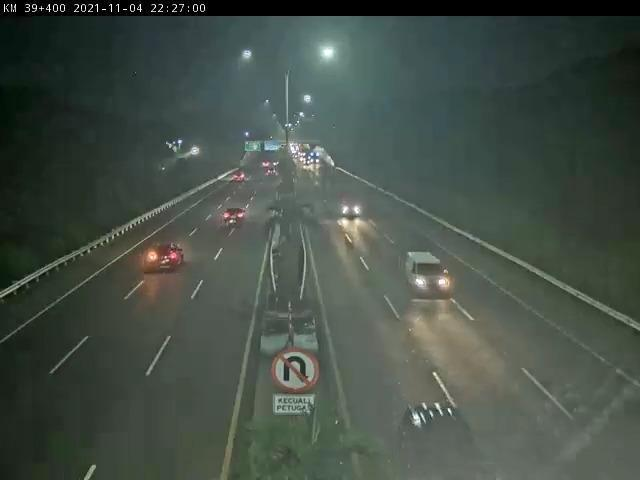car: (403, 251, 453, 297), (147, 244, 188, 272), (338, 192, 364, 218), (223, 207, 247, 228)
